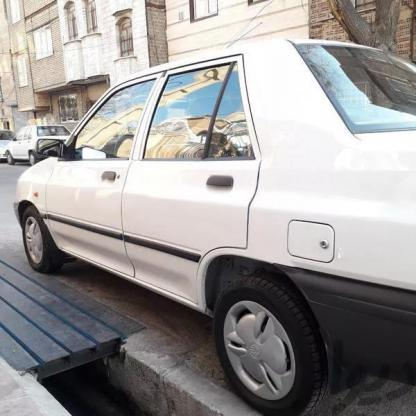Car: (0, 34, 416, 416), (4, 118, 85, 173)
